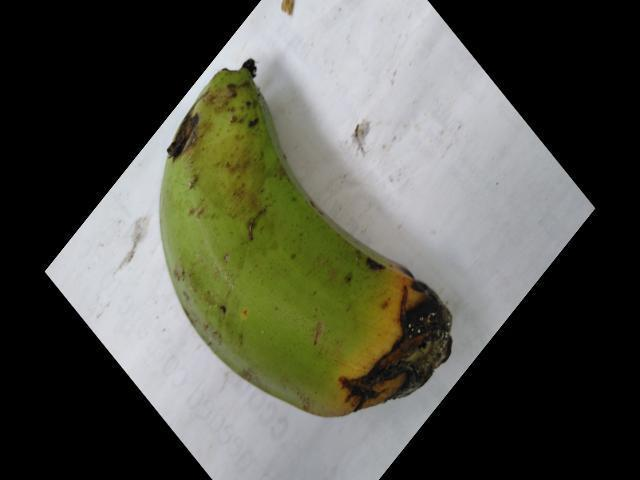rotten: (276, 229, 462, 452)
unripe: (123, 54, 354, 400)
